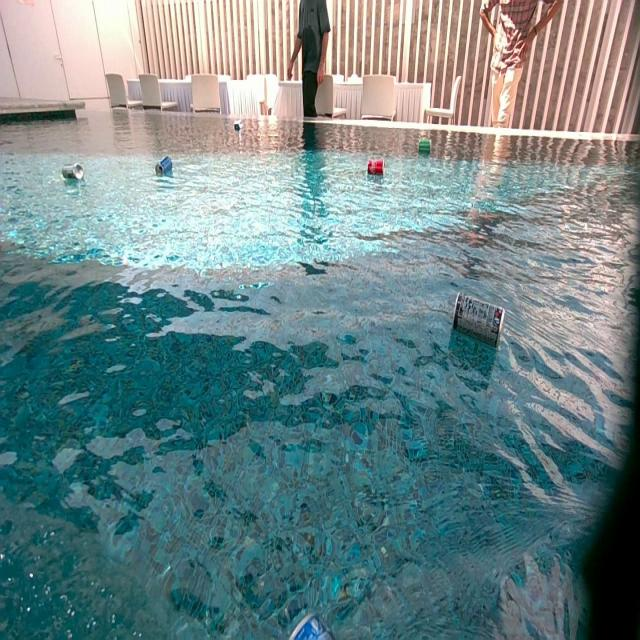Cans: (454, 293, 506, 348), (62, 162, 84, 183), (158, 157, 175, 175), (366, 162, 383, 178), (418, 137, 432, 151), (234, 120, 243, 130)
